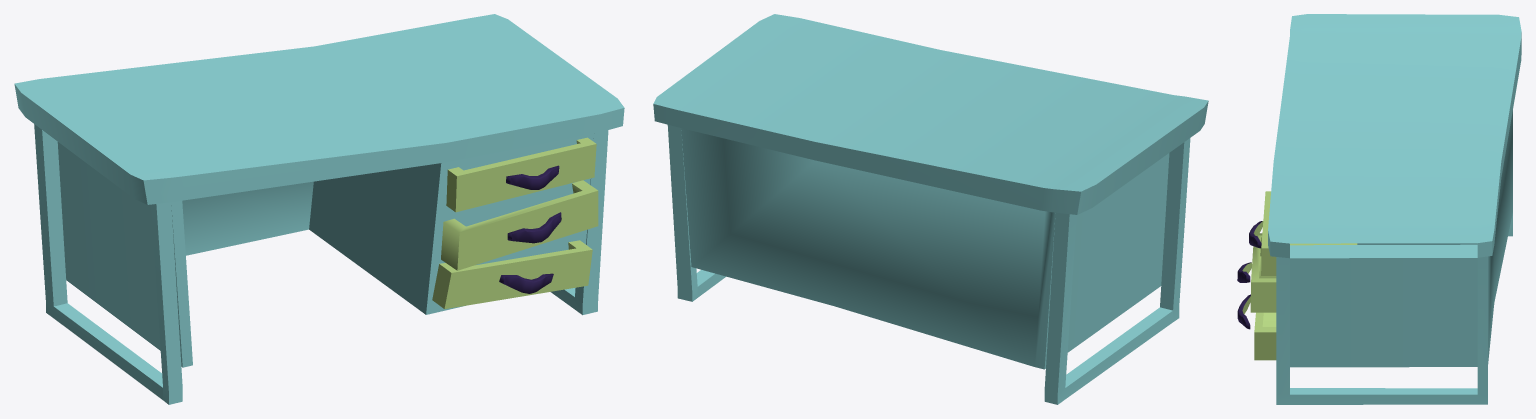
File: SM_ClassicDesk_2.fbx
The picture shows the model from 3 angles, left to right: view 1: azimuth 30°, elevation 25°; view 2: azimuth 150°, elevation 25°; view 3: azimuth 270°, elevation 25°; orthographic projection. The views are drawn at different scales.
Visible parts, largest first — view 1: SM_ClassicDesk_2; view 2: SM_ClassicDesk_2; view 3: SM_ClassicDesk_2.
Boxes of the visible parts, x1,y1,x2,y2 form: SM_ClassicDesk_2: [14, 14, 624, 404]; SM_ClassicDesk_2: [653, 14, 1208, 404]; SM_ClassicDesk_2: [1237, 14, 1521, 404].
Size of the model in its own units: 157 by 73.33 by 93.52.
